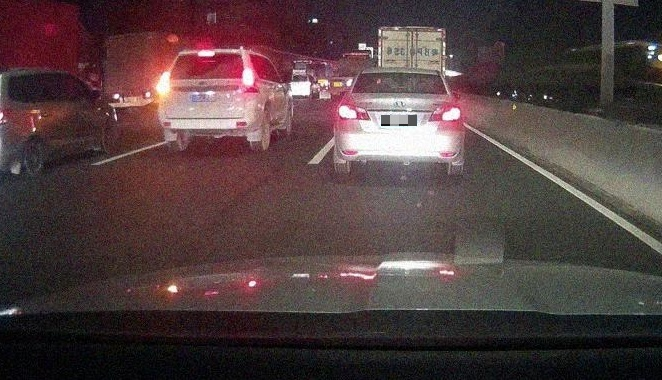L_light: (336, 103, 370, 121), (157, 72, 170, 96)
R_light: (428, 104, 462, 122), (242, 72, 259, 94)
T_light: (198, 50, 216, 58), (389, 71, 412, 77)
night-left: (156, 48, 262, 151)
night-no: (336, 67, 463, 176)
plate_1: (381, 115, 417, 126)
